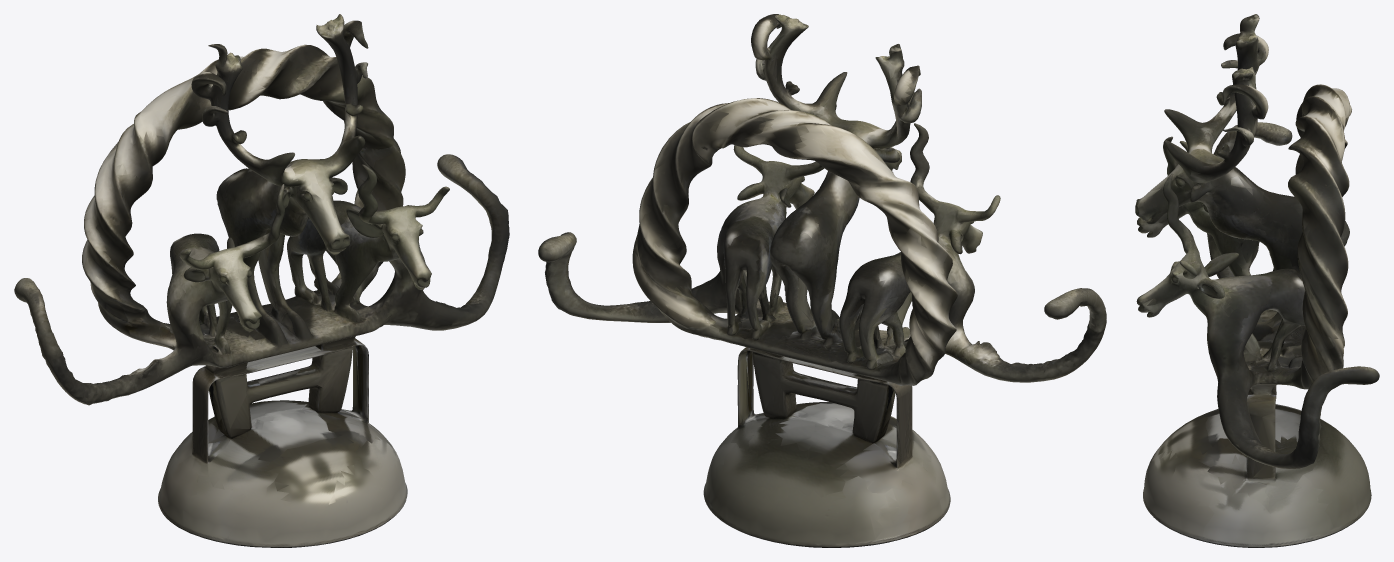
The model's file is hitit_gunes_kursu_aniti.glb.
3 views of the same model, side by side, from view 1: azimuth 30°, elevation 25°; view 2: azimuth 150°, elevation 25°; view 3: azimuth 270°, elevation 25° (orthographic). The views are drawn at different scales.
Visible parts, largest first — view 1: Meshy_AI_ankara_0225171103_texture; view 2: Meshy_AI_ankara_0225171103_texture; view 3: Meshy_AI_ankara_0225171103_texture.
Part boxes in pixels (x1,y1,x2,y2): Meshy_AI_ankara_0225171103_texture: (14,14,509,547); Meshy_AI_ankara_0225171103_texture: (538,14,1106,547); Meshy_AI_ankara_0225171103_texture: (1135,14,1379,547).
Size of the model in its own units: 2 by 1.74 by 0.8578.
Materials: 1 (1 with a texture image).
